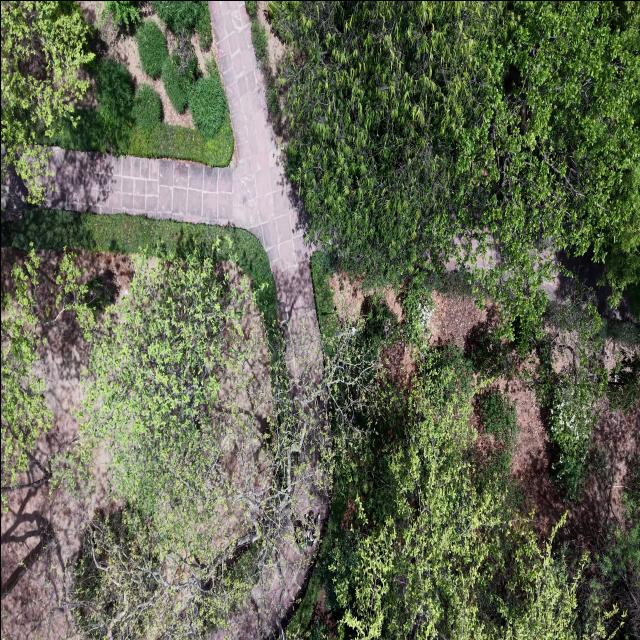DRY_AREA: (47, 1, 318, 337), (47, 121, 318, 336), (1, 313, 118, 639), (1, 313, 107, 639), (475, 351, 639, 551), (490, 352, 639, 553)
PATHWAYS: (47, 1, 322, 375)
VEGETATION_TREE: (1, 1, 639, 639), (1, 214, 637, 639), (62, 222, 371, 638), (287, 299, 638, 639), (276, 1, 639, 324), (74, 254, 376, 638), (52, 226, 307, 638), (1, 249, 270, 638), (288, 345, 618, 639), (319, 324, 617, 639), (1, 211, 278, 492), (293, 420, 638, 638), (77, 255, 272, 638), (81, 255, 269, 564), (329, 347, 501, 638), (1, 1, 233, 202), (466, 285, 639, 501), (466, 287, 639, 501), (1, 210, 278, 343), (72, 507, 256, 639), (1, 244, 92, 509), (37, 60, 233, 166), (46, 60, 233, 166), (1, 1, 94, 202), (532, 295, 607, 498), (1, 249, 51, 507), (137, 1, 218, 113), (589, 457, 639, 638), (46, 59, 134, 153), (548, 368, 604, 496), (120, 121, 233, 166), (128, 120, 233, 166), (246, 1, 282, 130), (475, 388, 518, 482), (96, 59, 134, 152), (161, 29, 202, 113), (188, 60, 227, 136), (152, 1, 211, 50), (153, 1, 211, 50), (311, 252, 338, 349), (45, 109, 107, 151), (607, 235, 639, 316), (467, 328, 514, 377), (362, 292, 398, 346), (403, 284, 434, 345), (608, 352, 639, 413), (137, 20, 167, 78), (173, 40, 202, 94), (153, 1, 202, 31), (161, 57, 187, 113), (132, 84, 161, 131), (602, 318, 639, 349), (104, 1, 140, 28), (195, 1, 212, 51), (251, 17, 267, 61), (246, 1, 255, 17)
